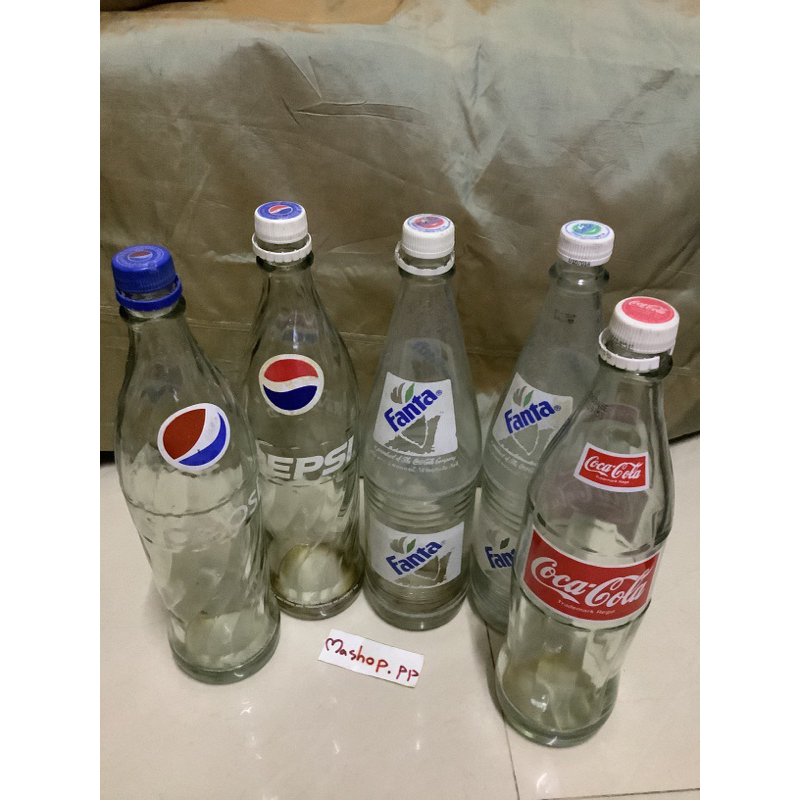glass_bottle: (483, 206, 679, 761), (109, 238, 280, 689), (237, 181, 364, 626), (368, 185, 476, 636)
